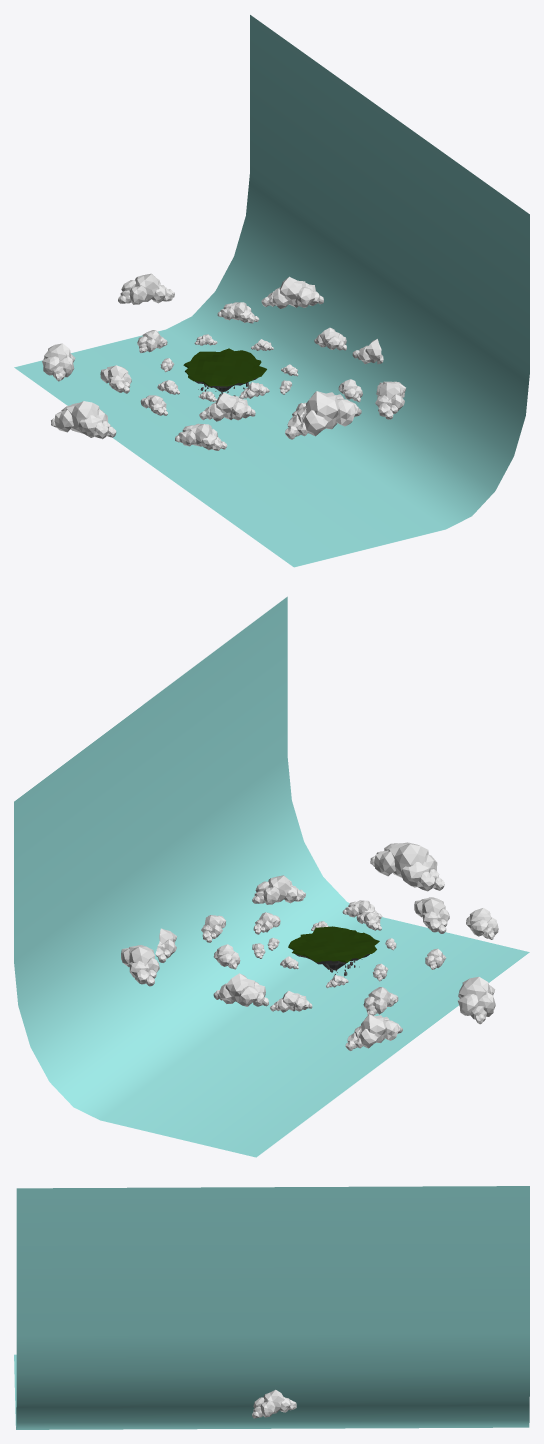
Rendered from floatingisland.fbx.
The picture shows the model from 3 angles, top to bottom: view 1: azimuth 30°, elevation 25°; view 2: azimuth 150°, elevation 25°; view 3: azimuth 270°, elevation 25°; orthographic projection. The views are drawn at different scales.
Parts seen in each view (by area): view 1: backdrop, cloudsouter, cloudsmiddle, MainPlatform, cloudsinner; view 2: backdrop, cloudsouter, cloudsmiddle, MainPlatform, cloudsinner; view 3: backdrop, cloudsouter.
Part boxes in pixels (left/top/right/bottom): backdrop: left=14, top=15, right=529, bottom=567; cloudsouter: left=42, top=273, right=405, bottom=450; cloudsmiddle: left=100, top=302, right=362, bottom=421; MainPlatform: left=183, top=348, right=266, bottom=391; cloudsinner: left=157, top=334, right=298, bottom=401; backdrop: left=14, top=596, right=529, bottom=1157; cloudsouter: left=121, top=842, right=498, bottom=1050; cloudsmiddle: left=201, top=897, right=449, bottom=1015; MainPlatform: left=288, top=926, right=379, bottom=970; cloudsinner: left=252, top=912, right=396, bottom=988; backdrop: left=14, top=1186, right=529, bottom=1429; cloudsouter: left=252, top=1389, right=296, bottom=1418.
Size of the model in its own units: 61715 by 50723 by 86436.
